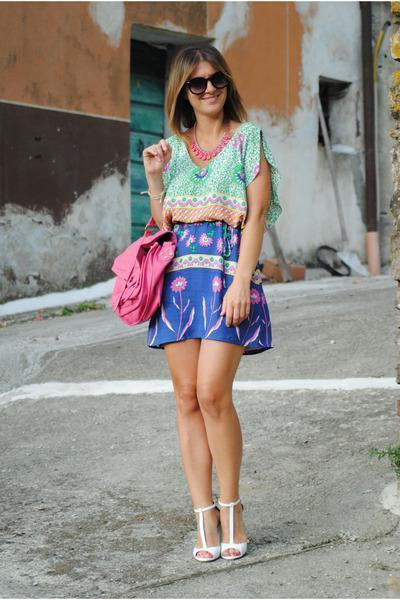dress: (139, 115, 286, 352)
